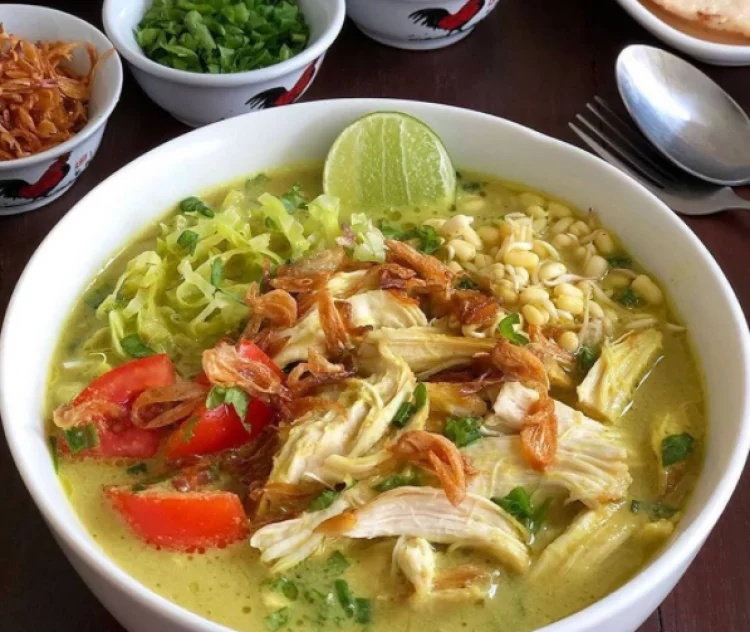soto: (23, 132, 719, 619)
